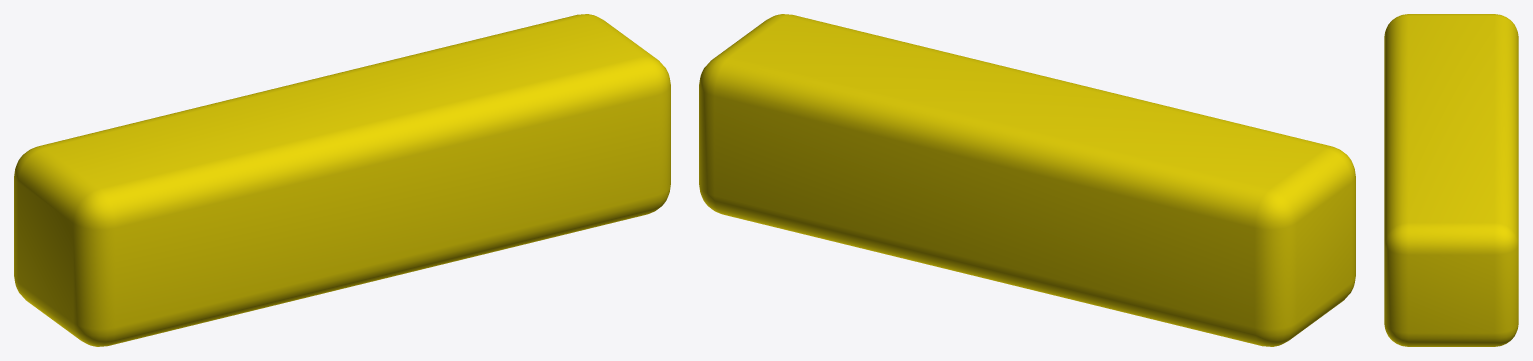
3 views of the same model, side by side, from view 1: azimuth 30°, elevation 25°; view 2: azimuth 150°, elevation 25°; view 3: azimuth 270°, elevation 25° (orthographic). The views are drawn at different scales.
Parts seen in each view (by area): view 1: 4; view 2: 4; view 3: 4.
Boxes of the visible parts, x1,y1,x2,y2 form: 4: (14, 14, 670, 346); 4: (699, 14, 1355, 346); 4: (1384, 14, 1518, 346).
Bounding box in the file's own units: 399 × 100 × 100.
